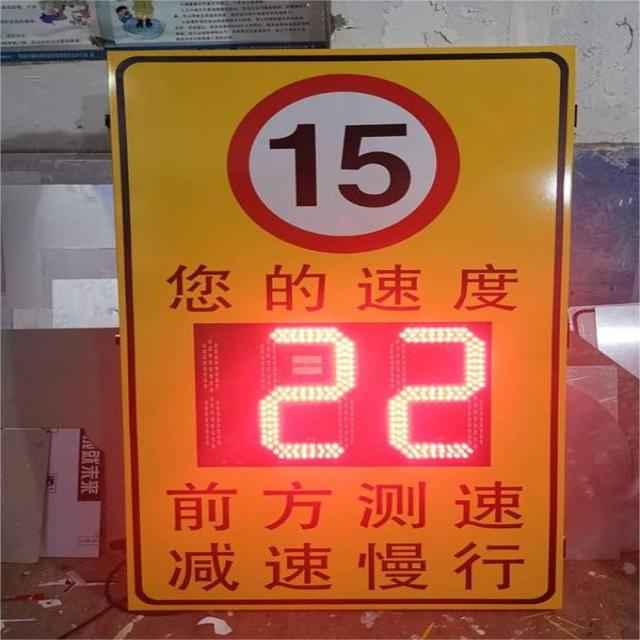speed limit 20: (227, 75, 462, 255)
